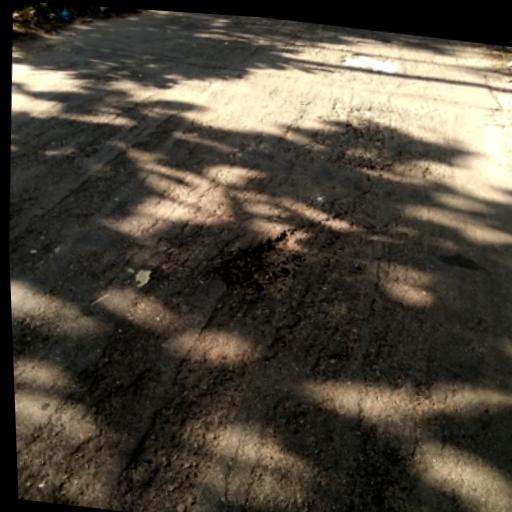pothole: (209, 216, 310, 305)
